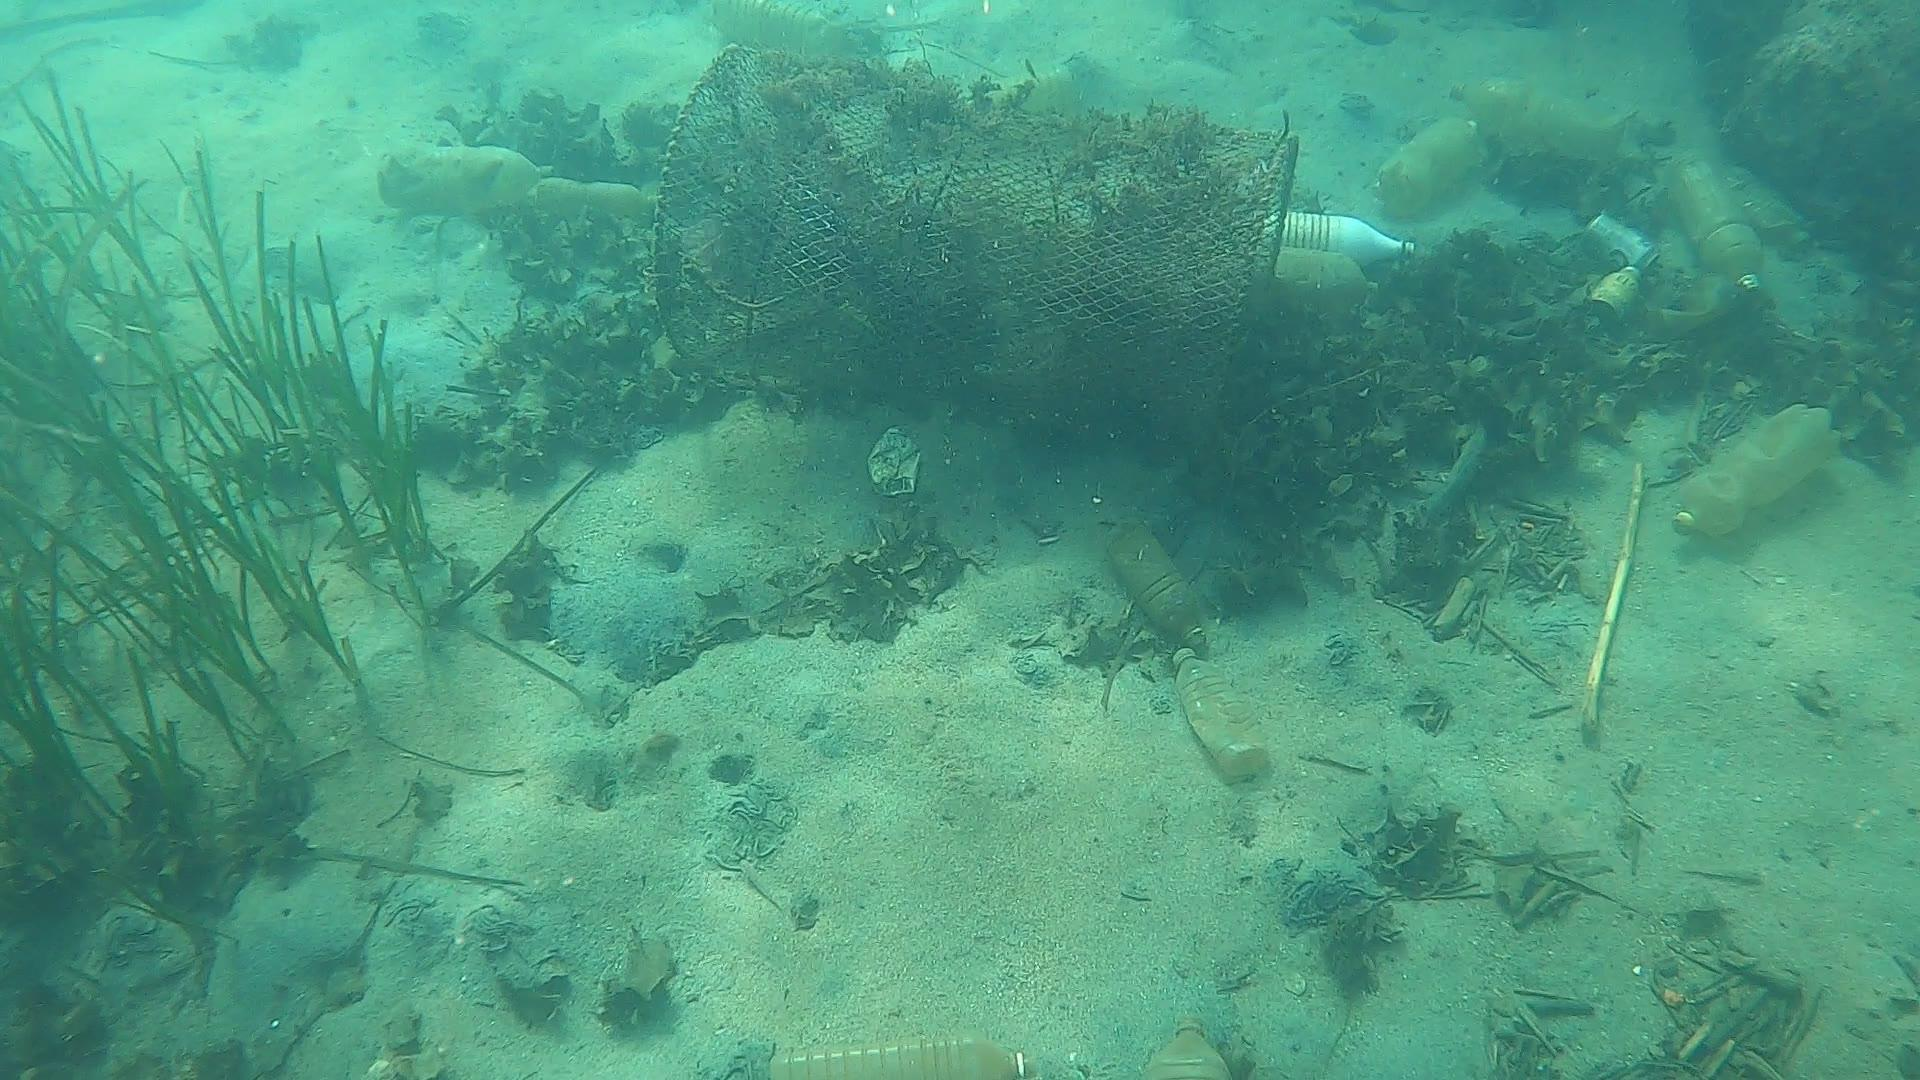spring fish trap: (650, 40, 1303, 472)
